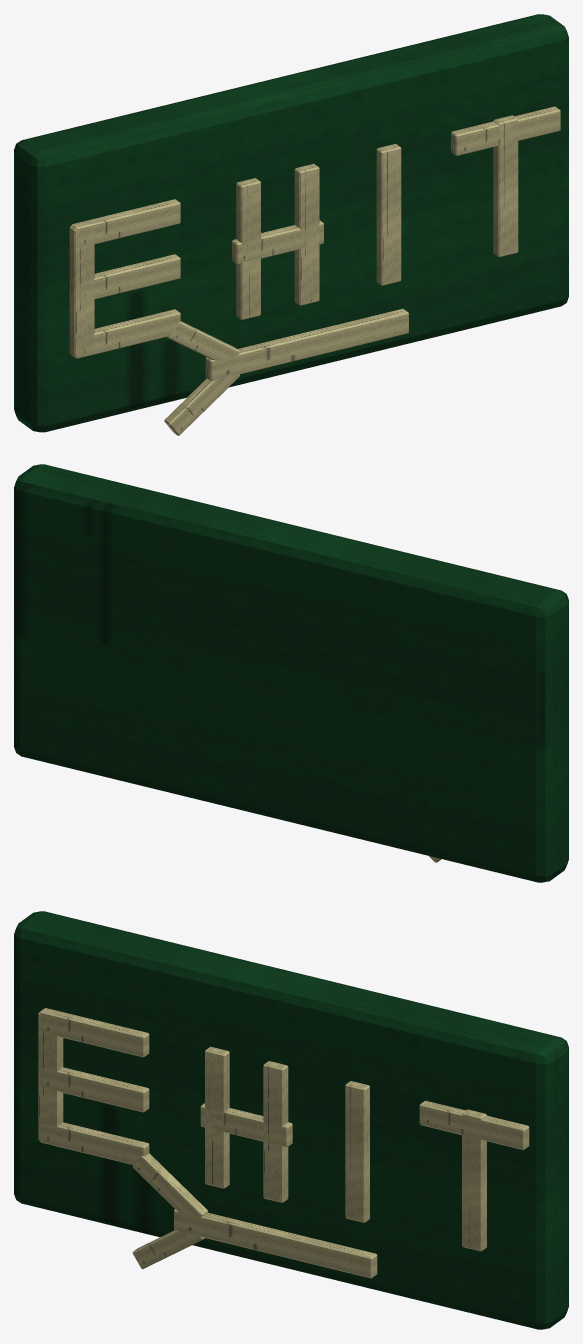
Rendered from wrong-exit-sign.glb.
3 views of the same model, one above another, from view 1: azimuth 30°, elevation 25°; view 2: azimuth 150°, elevation 25°; view 3: azimuth 330°, elevation 25° (orthographic).
Parts seen in each view (by area): view 1: SM_backrooms_wrong_exit_sign_AnomalyExitGreen, SM_backrooms_wrong_exit_sign_AnomalyPalePlastic; view 2: SM_backrooms_wrong_exit_sign_AnomalyExitGreen; view 3: SM_backrooms_wrong_exit_sign_AnomalyExitGreen, SM_backrooms_wrong_exit_sign_AnomalyPalePlastic.
Boxes of the visible parts, x1,y1,x2,y2 form: SM_backrooms_wrong_exit_sign_AnomalyExitGreen: (14, 14, 568, 432); SM_backrooms_wrong_exit_sign_AnomalyPalePlastic: (69, 106, 560, 435); SM_backrooms_wrong_exit_sign_AnomalyExitGreen: (14, 464, 568, 882); SM_backrooms_wrong_exit_sign_AnomalyExitGreen: (14, 911, 568, 1329); SM_backrooms_wrong_exit_sign_AnomalyPalePlastic: (38, 1008, 529, 1278).
Bounding box in the file's own units: 0.92 × 0.5034 × 0.096.
2 materials, 2 textured.
